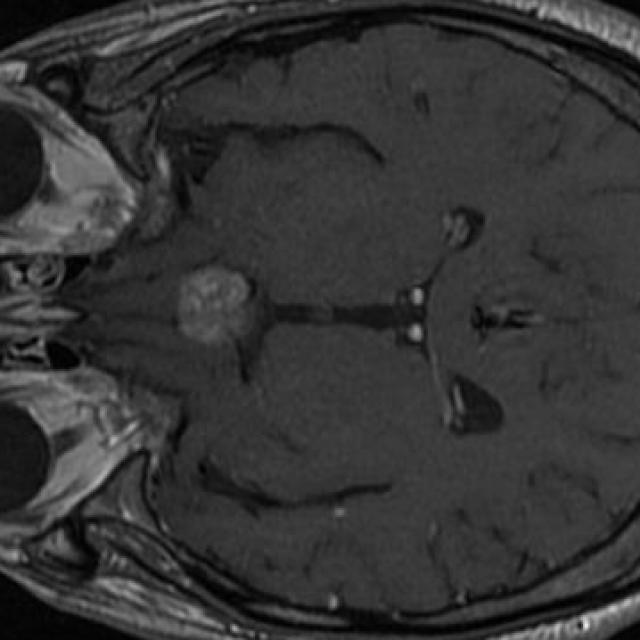pituitary: (178, 267, 253, 346)
